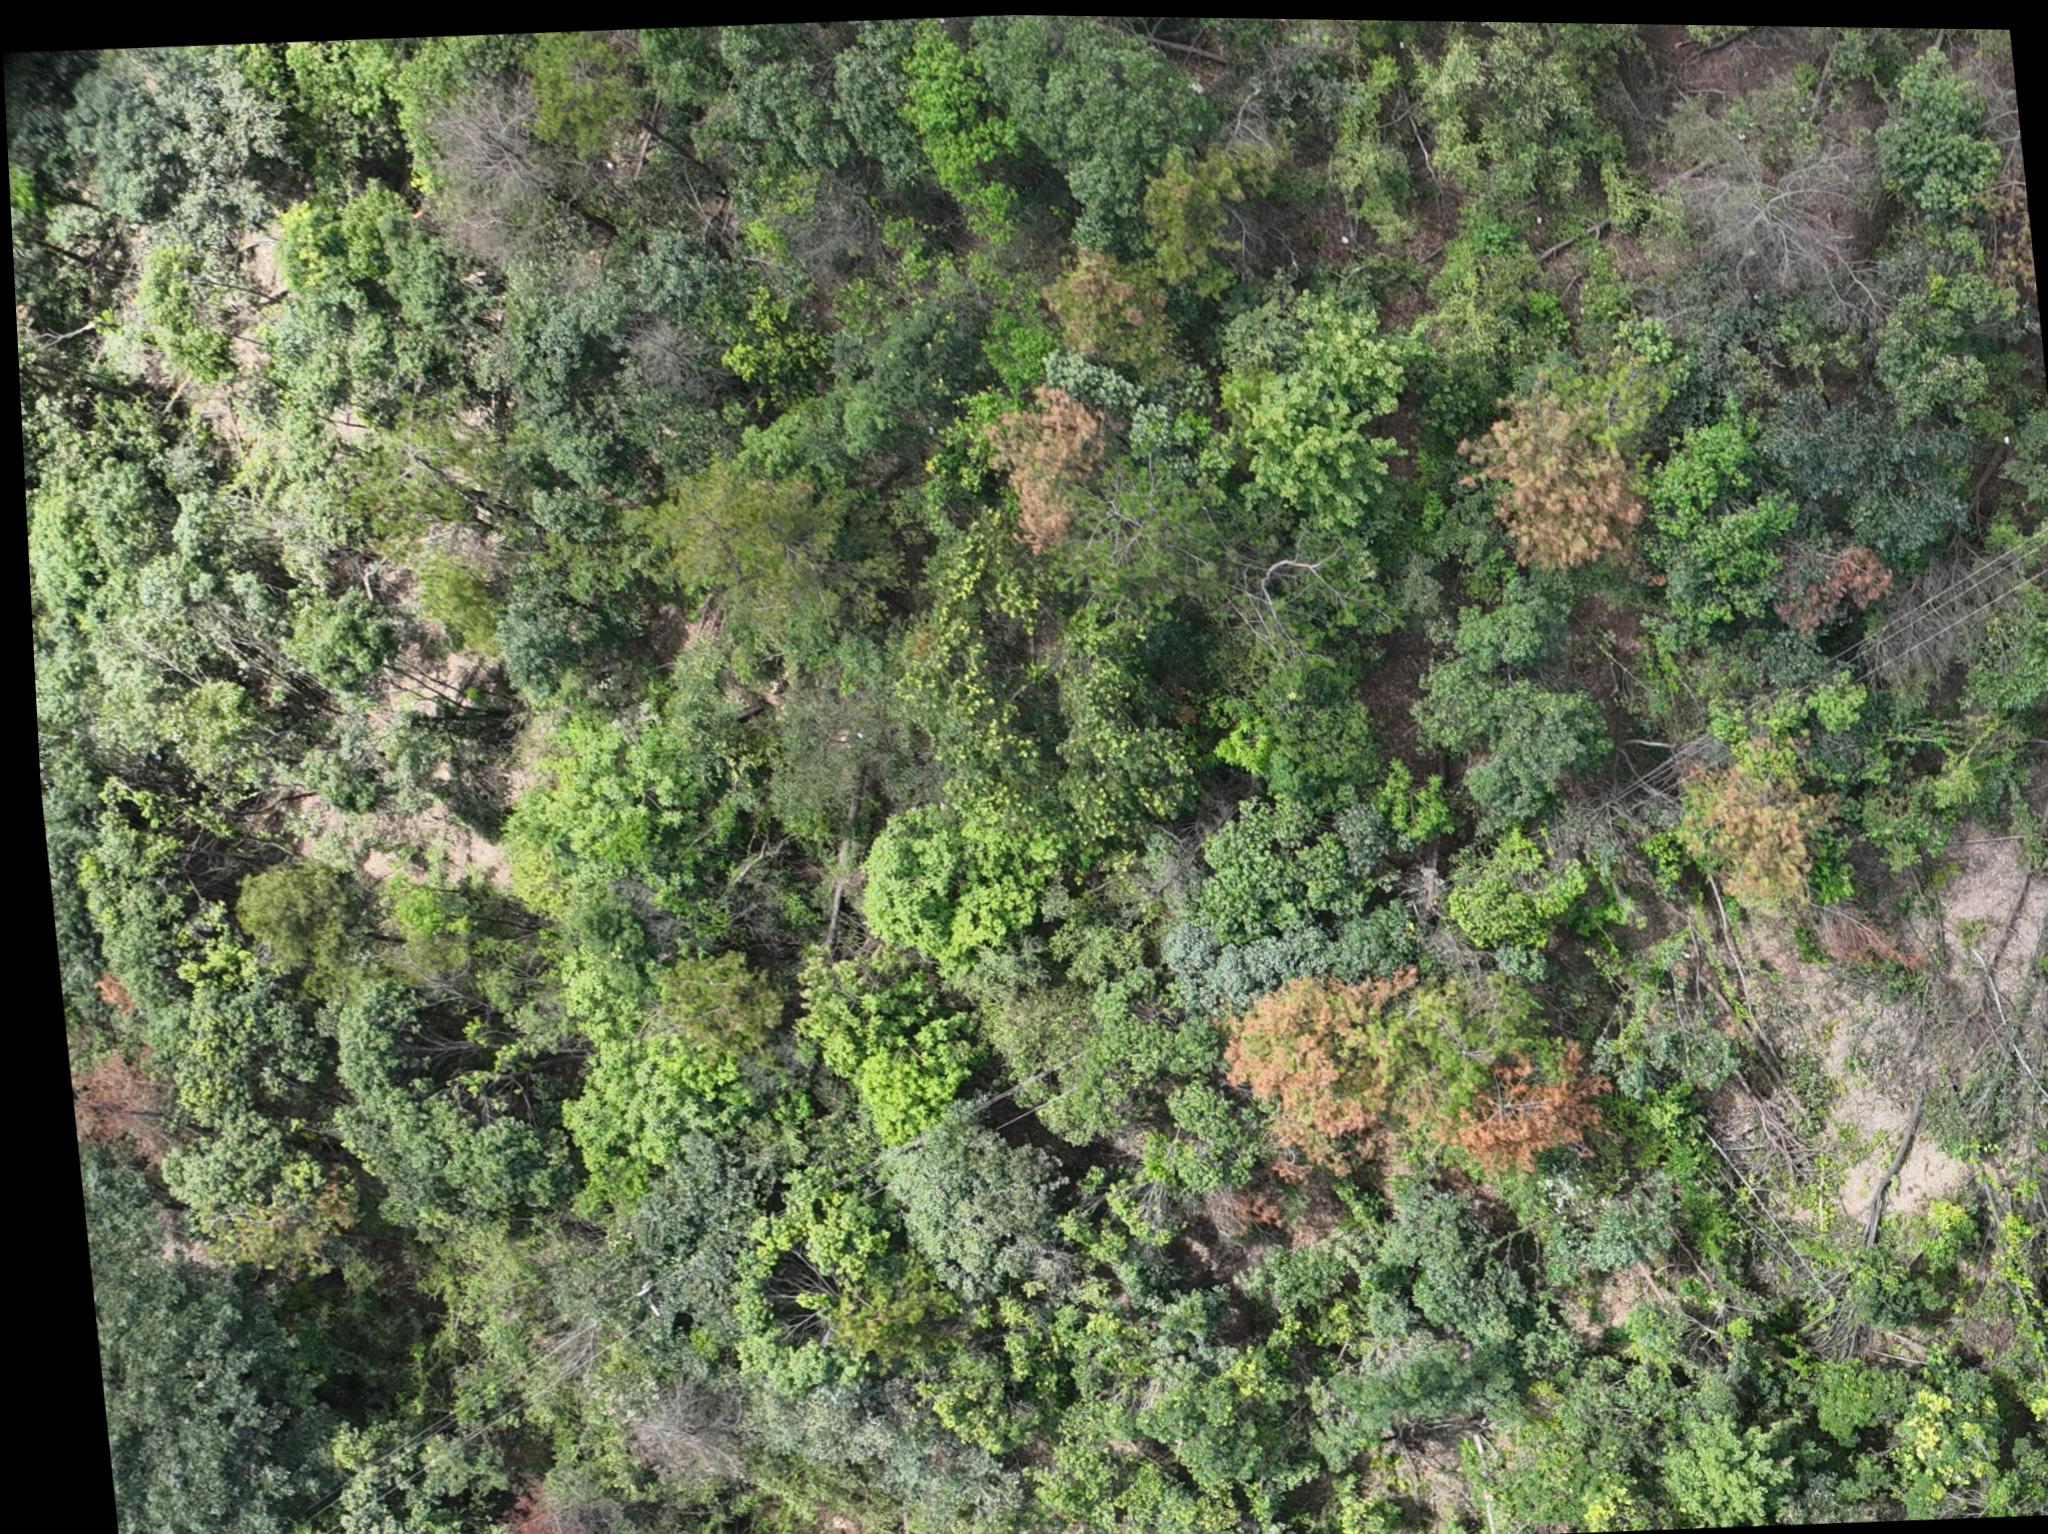dead: (1666, 102, 1887, 319), (421, 79, 549, 276), (612, 1370, 735, 1478), (617, 308, 706, 401)
heavy: (1191, 943, 1598, 1202), (1442, 388, 1642, 575), (972, 372, 1105, 546), (1764, 529, 1869, 627), (63, 1046, 155, 1154), (480, 1463, 577, 1534)
light: (1655, 744, 1827, 920)
